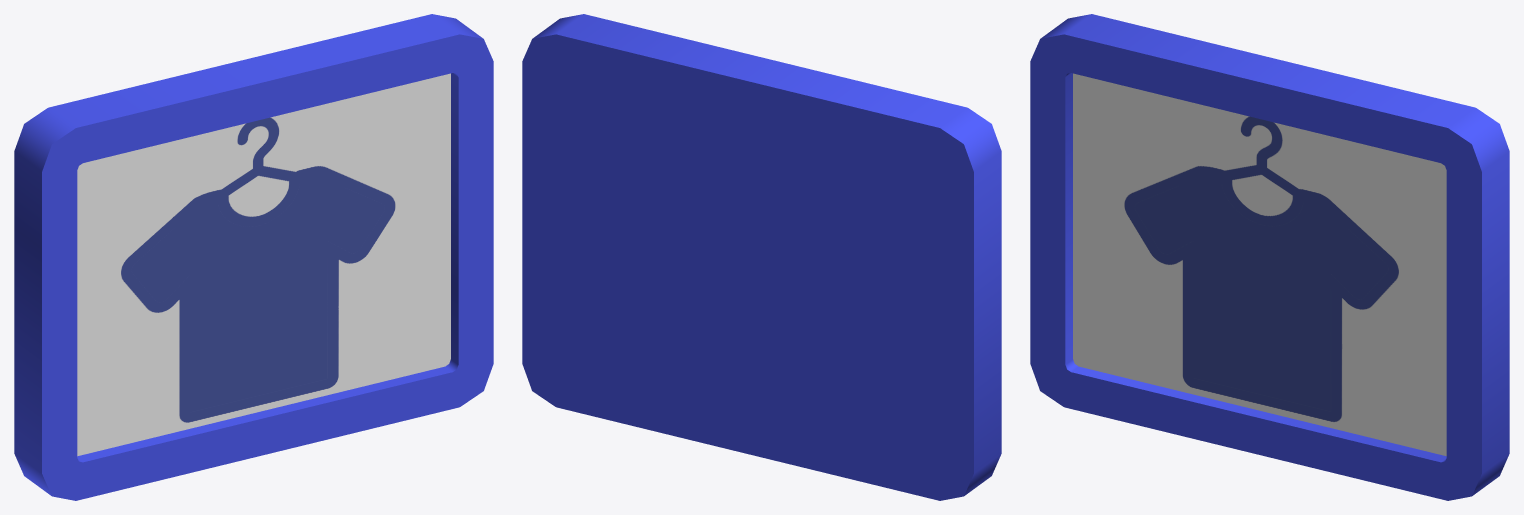
Rendered from sign.fbx.
3 renders of one model, left to right at view 1: azimuth 30°, elevation 25°; view 2: azimuth 150°, elevation 25°; view 3: azimuth 330°, elevation 25°, orthographic.
Parts seen in each view (by area): view 1: Cube.011; view 2: Cube.011; view 3: Cube.011.
Boxes of the visible parts, x1,y1,x2,y2 form: Cube.011: [14, 14, 493, 500]; Cube.011: [522, 14, 1001, 500]; Cube.011: [1030, 14, 1509, 500].
Bounding box in the file's own units: 2 × 1.58 × 0.2137.
